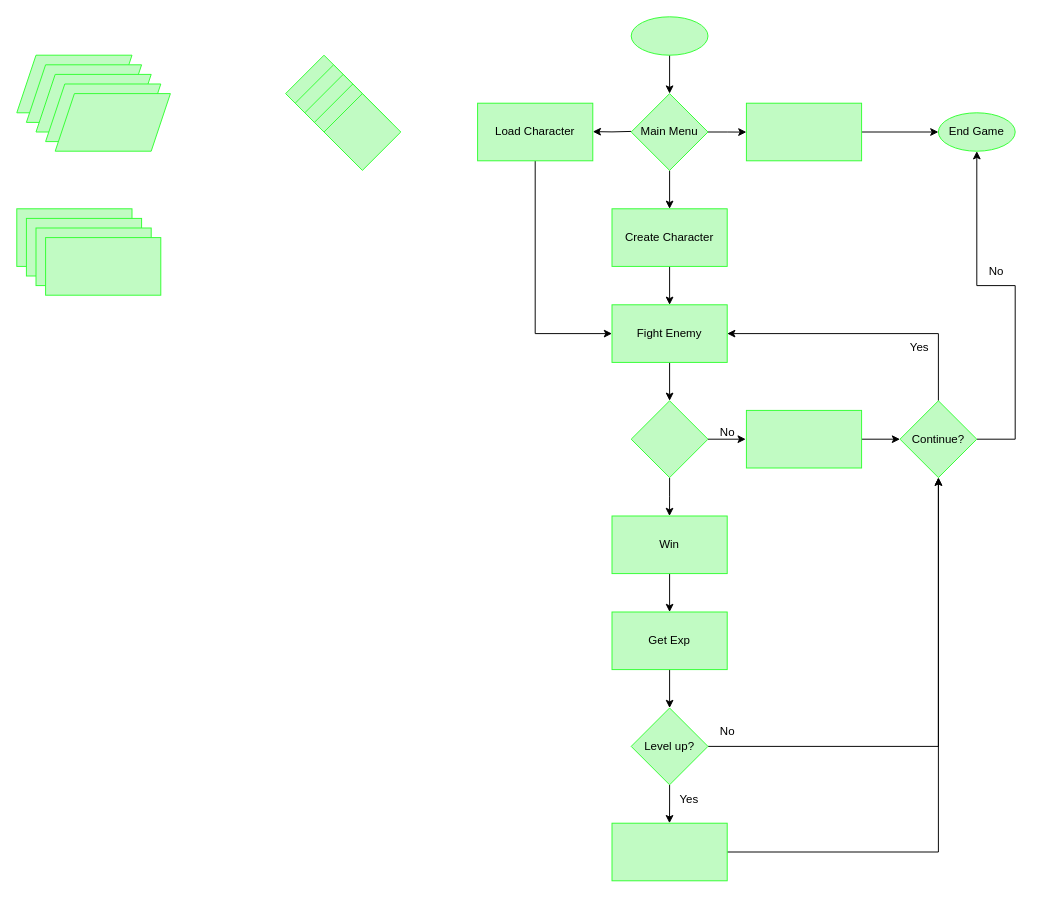
Image size: 1040x898. Some labels were removed from this diagram. The centre of each missing label's shape, as x and y in pixels:
"Die" goes at pixel 803 438.
"Level up" goes at pixel 669 851.
"Quit Game" goes at pixel 803 131.
"Start" goes at pixel 669 35.
"Survive?" goes at pixel 669 439.
